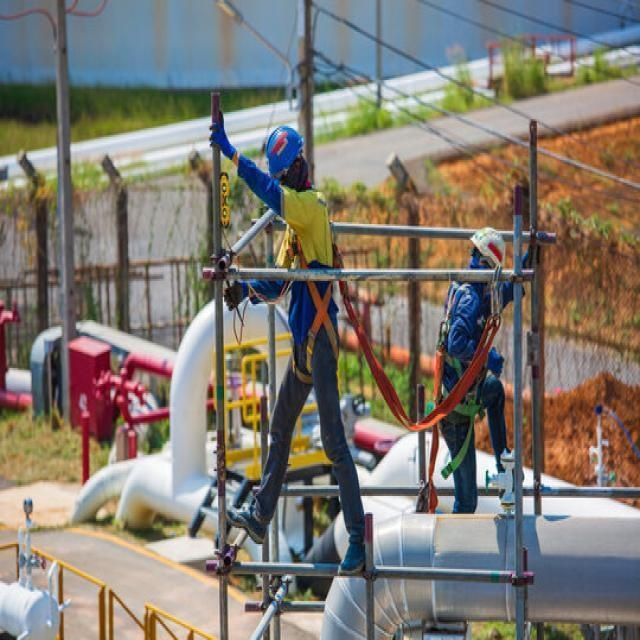Arnes_seguridad: (281, 214, 342, 380), (440, 274, 498, 417)
